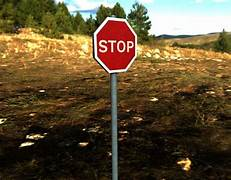stop: (93, 16, 139, 75)
